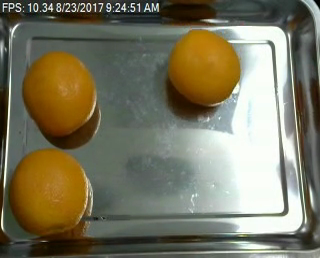Orange: (9, 149, 89, 233), (22, 51, 97, 136), (167, 28, 240, 107)
